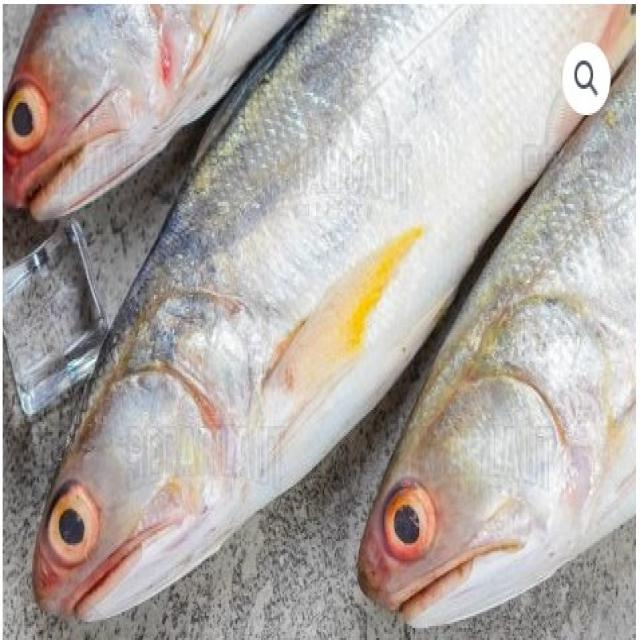Fourfinger-Threadfin: (5, 274, 300, 618), (353, 333, 614, 640), (2, 5, 201, 234)
